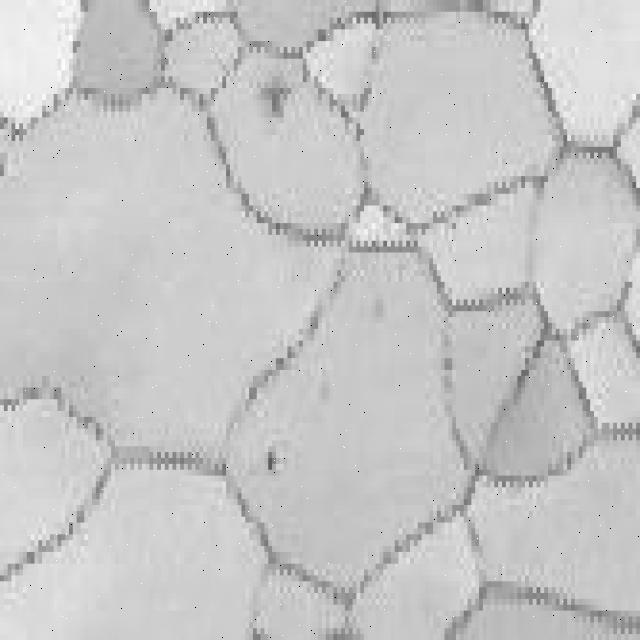good_void: (261, 83, 295, 118), (263, 446, 282, 475)
